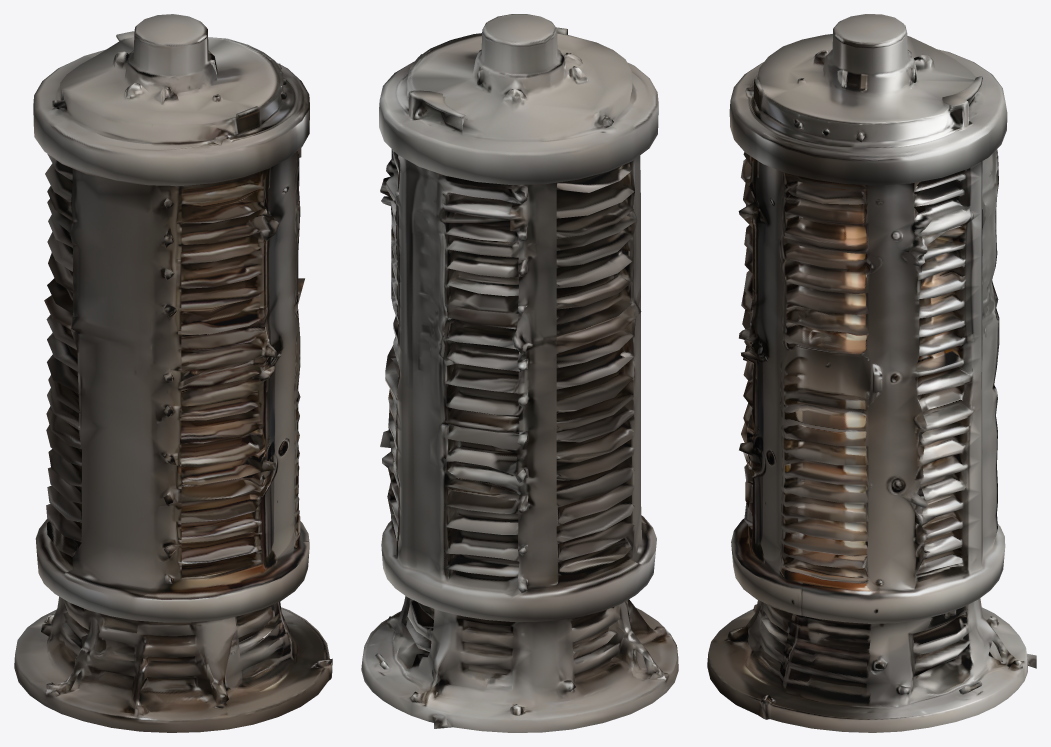
The model's file is artifact-death-lamp.glb.
3 renders of one model, left to right at view 1: azimuth 30°, elevation 25°; view 2: azimuth 150°, elevation 25°; view 3: azimuth 270°, elevation 25°, orthographic.
Visible parts, largest first — view 1: tripo_node_3f0165f6-c476-47b6-a6bc-a4bda79ff94e; view 2: tripo_node_3f0165f6-c476-47b6-a6bc-a4bda79ff94e; view 3: tripo_node_3f0165f6-c476-47b6-a6bc-a4bda79ff94e.
Boxes of the visible parts, box(x1,y1,x2,y2) form: tripo_node_3f0165f6-c476-47b6-a6bc-a4bda79ff94e: box(14, 14, 332, 732); tripo_node_3f0165f6-c476-47b6-a6bc-a4bda79ff94e: box(361, 14, 678, 732); tripo_node_3f0165f6-c476-47b6-a6bc-a4bda79ff94e: box(707, 14, 1036, 732).
Bounding box in the file's own units: 0.4468 × 0.9995 × 0.4644.
Materials: 1 (1 with a texture image).
